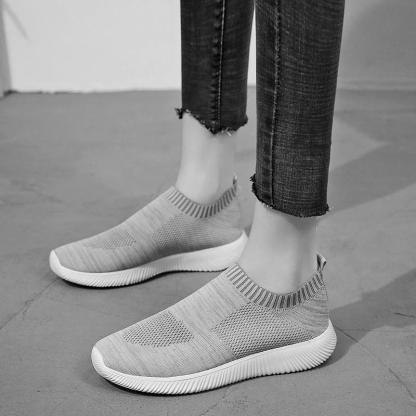ankle: (206, 208, 210, 212), (282, 297, 286, 300)
heel: (241, 230, 244, 234), (326, 324, 329, 328)
left_foot: (93, 271, 362, 394)
pinky: (131, 370, 135, 375), (70, 245, 72, 248)
right_foot: (50, 187, 251, 288)
toe: (75, 268, 78, 271), (103, 341, 106, 344)
